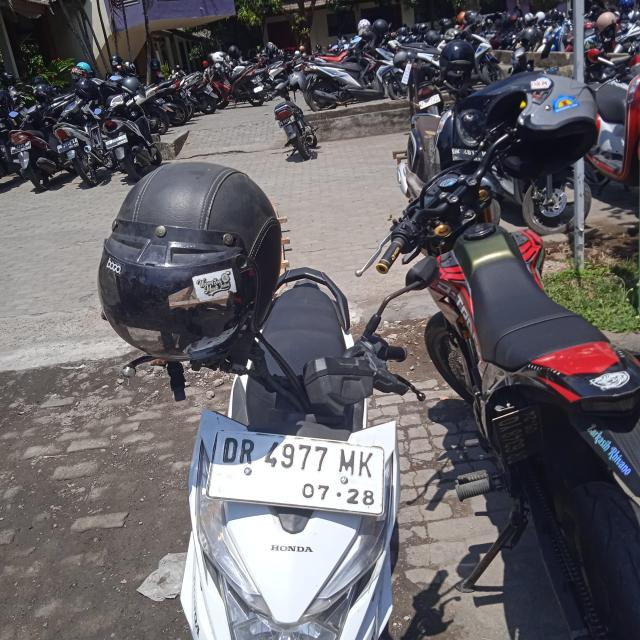plate: (205, 427, 388, 515)
